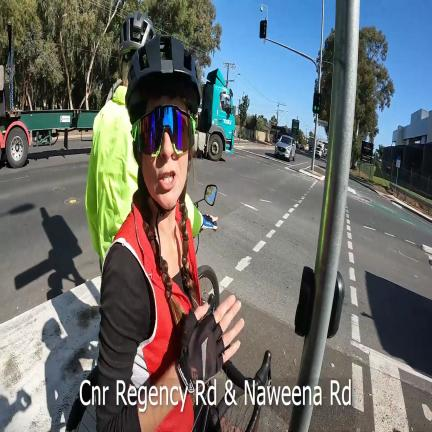Green_Bike_Lane: (369, 202, 432, 233)
